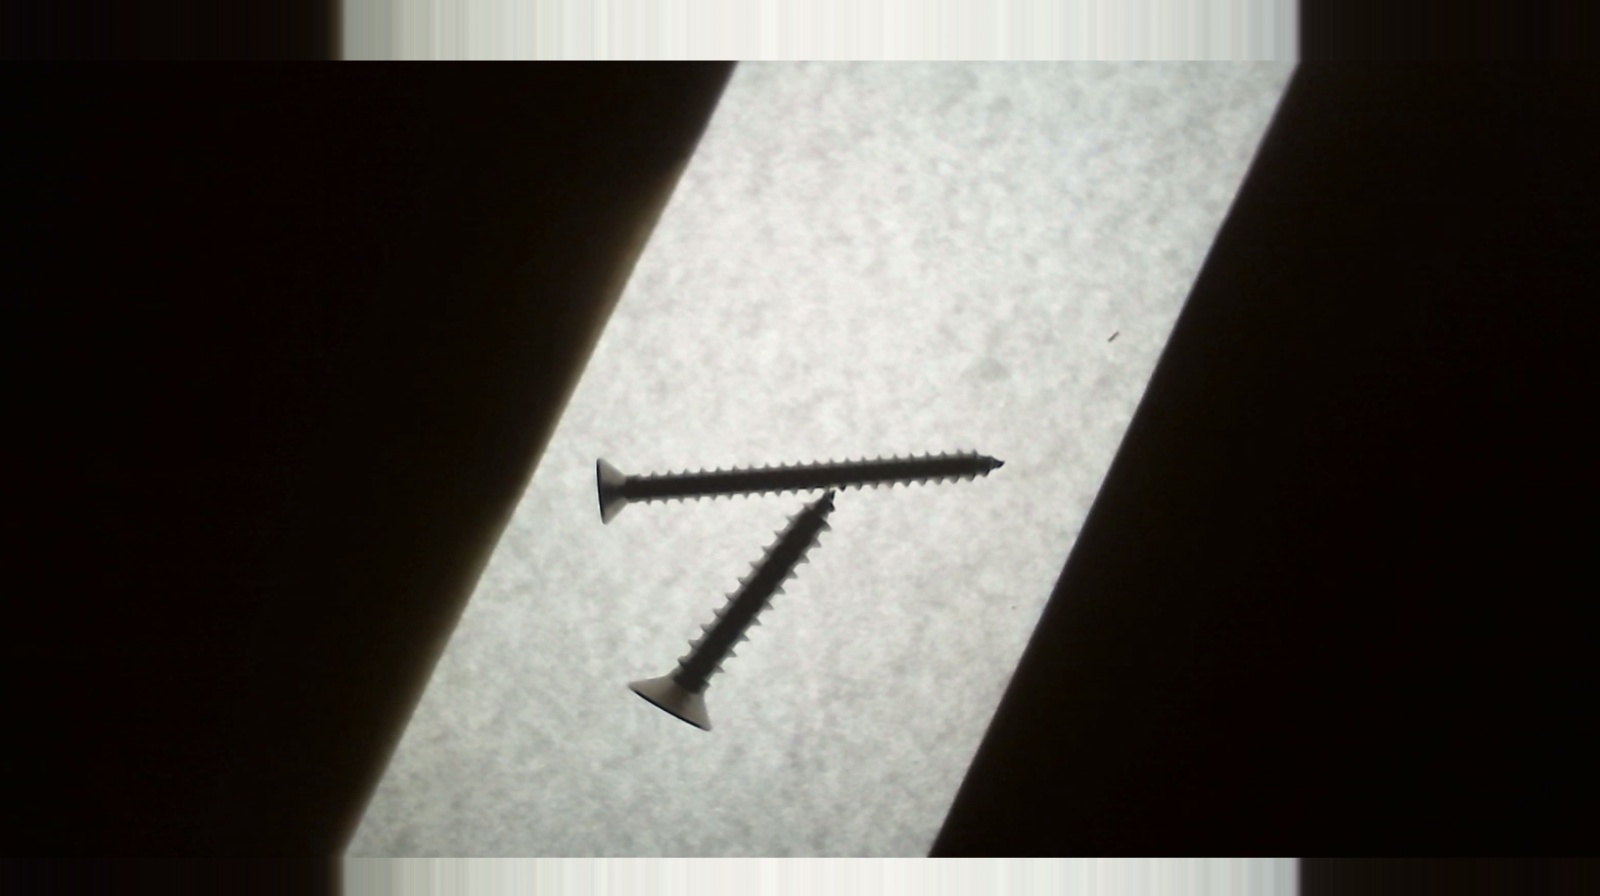S001: (623, 491, 838, 735)
S002: (591, 443, 1007, 529)
